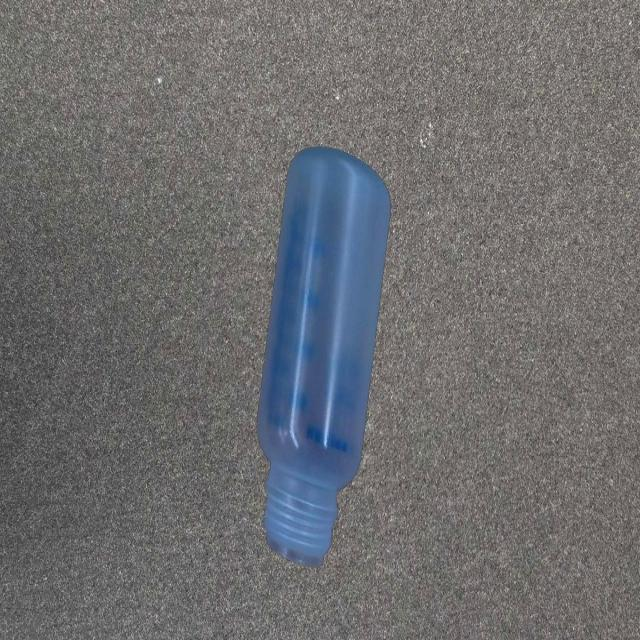bottle: (256, 144, 392, 565)
